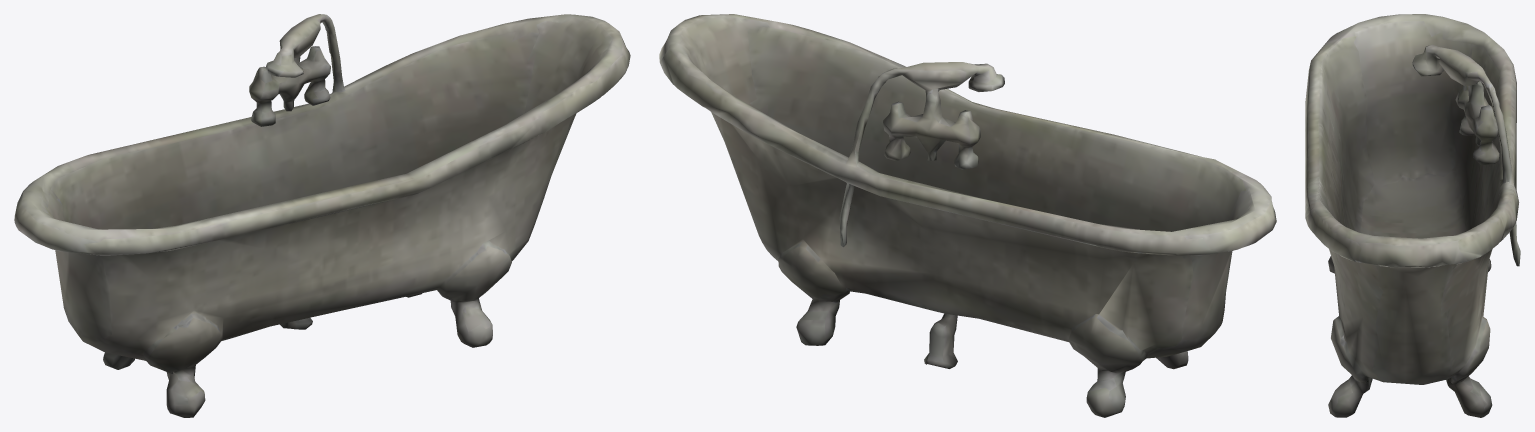
File: ornate-white-painted-bathtub-v001.glb
3 renders of one model, left to right at view 1: azimuth 30°, elevation 25°; view 2: azimuth 150°, elevation 25°; view 3: azimuth 270°, elevation 25°, orthographic.
Visible parts, largest first — view 1: ornate-white-painted-bathtub; view 2: ornate-white-painted-bathtub; view 3: ornate-white-painted-bathtub.
Boxes of the visible parts, box(x1,y1,x2,y2) form: ornate-white-painted-bathtub: box(14, 14, 630, 417); ornate-white-painted-bathtub: box(659, 14, 1276, 417); ornate-white-painted-bathtub: box(1305, 14, 1520, 417).
Size of the model in its own units: 1.52 by 0.7381 by 0.4813.
Materials: 1 (1 with a texture image).
